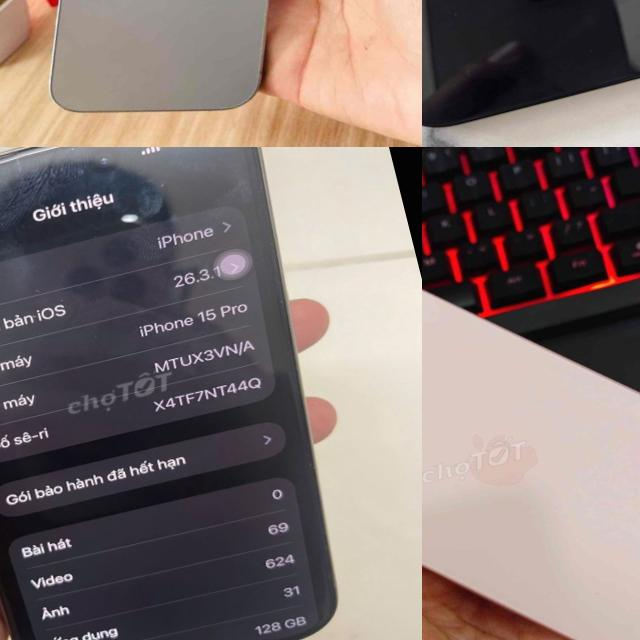gen_12_13: (422, 0, 640, 126)
gen_15: (0, 147, 378, 640), (422, 167, 640, 640), (0, 0, 374, 147)
